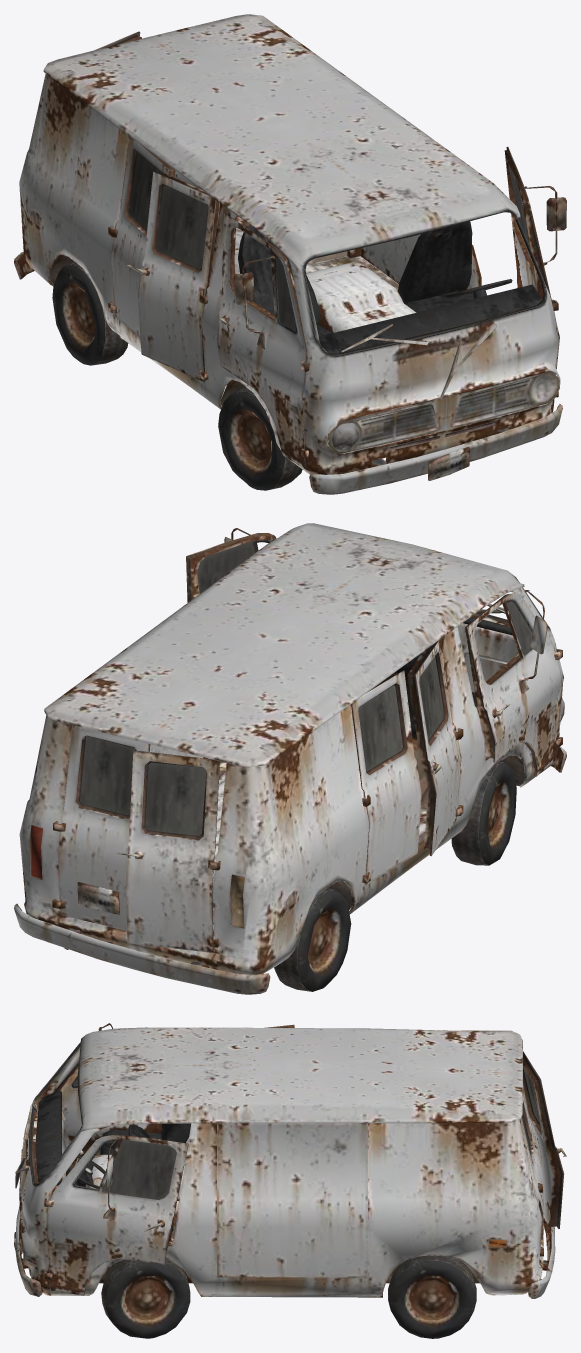
File: van_a.glb
3 views of the same model, one above another, from view 1: azimuth 30°, elevation 25°; view 2: azimuth 150°, elevation 25°; view 3: azimuth 270°, elevation 25° (orthographic). The views are drawn at different scales.
Visible parts, largest first — view 1: van_a_LOD0; view 2: van_a_LOD0; view 3: van_a_LOD0.
Part boxes in pixels (left/top/right/bottom): van_a_LOD0: left=14, top=14, right=566, bottom=494; van_a_LOD0: left=14, top=523, right=566, bottom=994; van_a_LOD0: left=14, top=1023, right=566, bottom=1338.
Bounding box in the file's own units: 2.87 × 2.26 × 5.
1 material, 1 textured.
